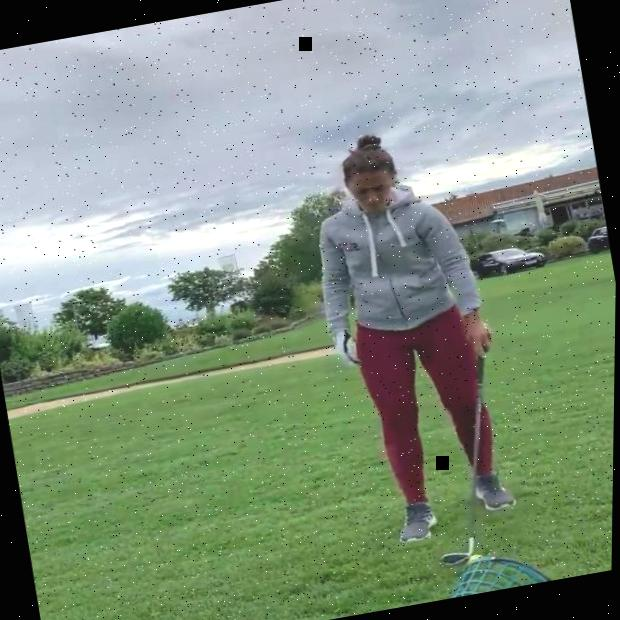ClubHead: (442, 550, 474, 568)
GolfBall: (467, 554, 486, 566)
